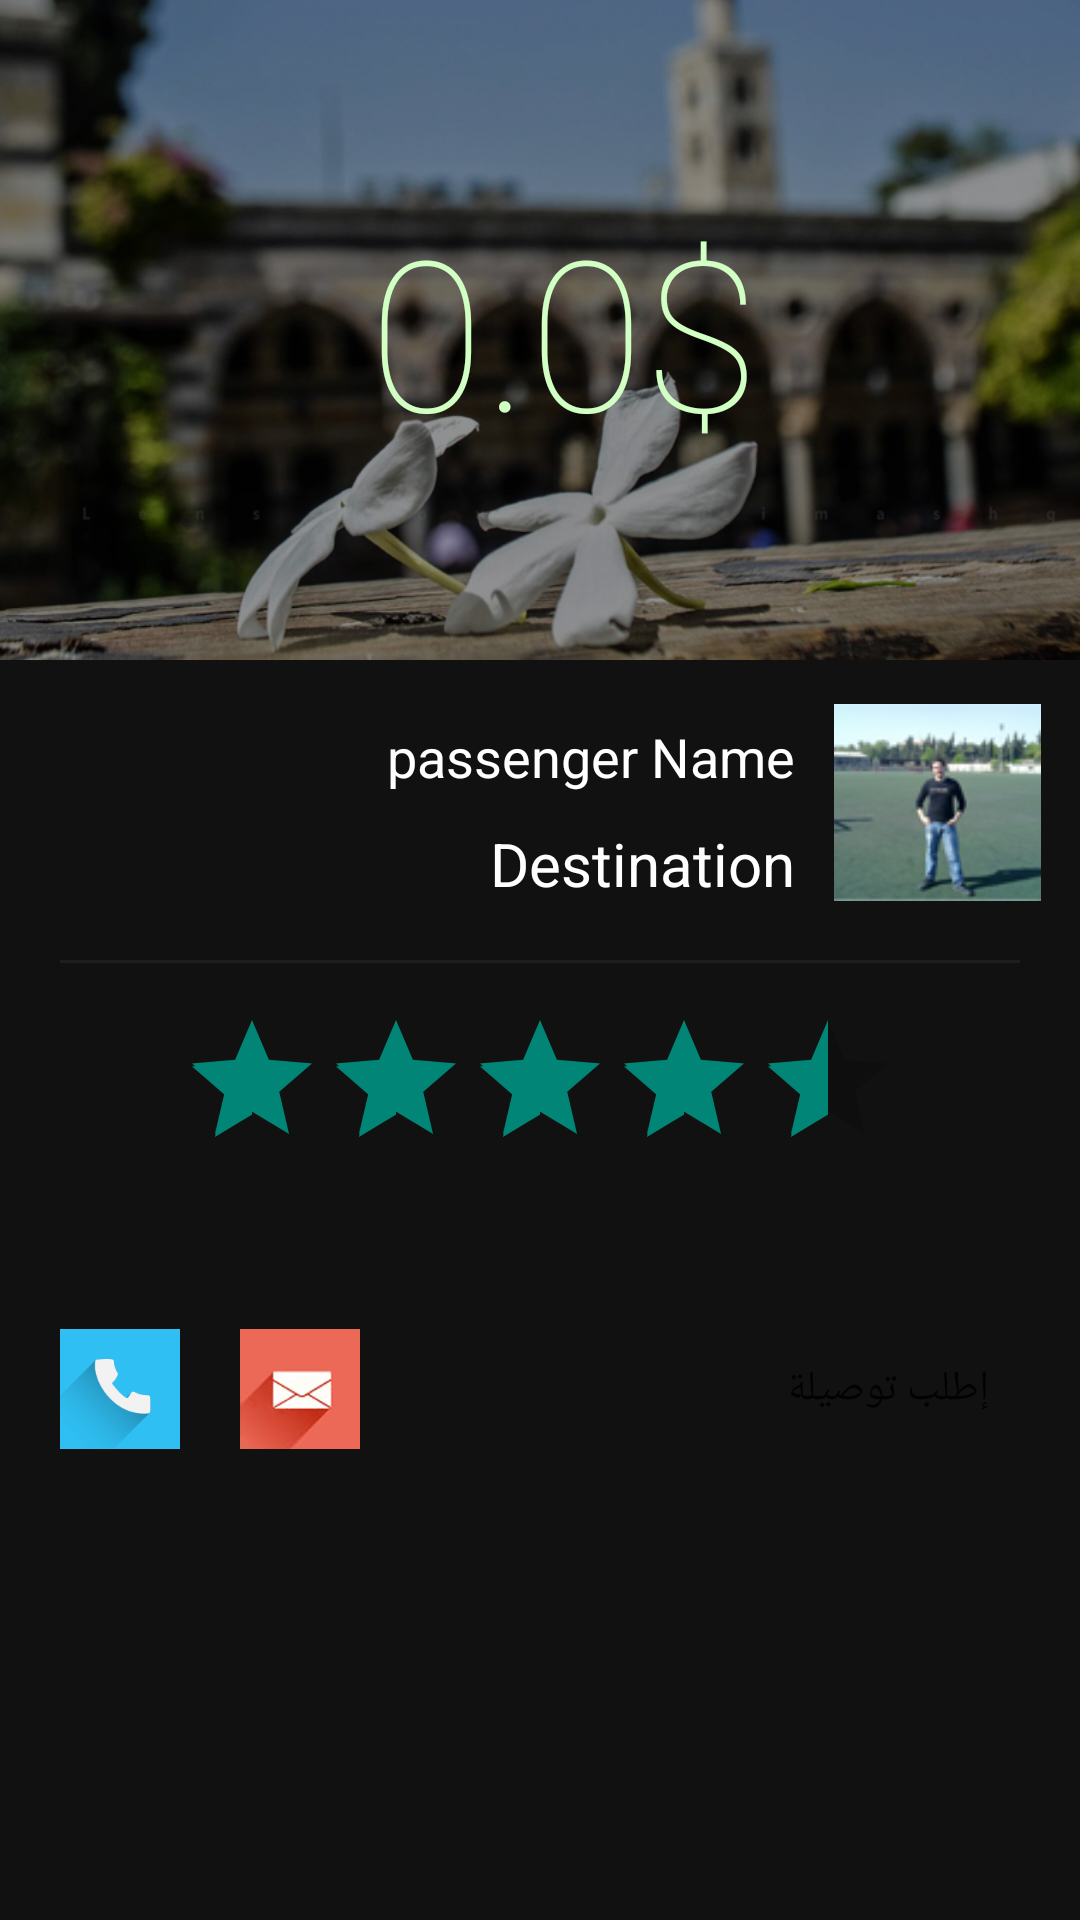

Named icons in this screenshot (1080px x 1920px) and their bounding boxes, (x1, y1, x2, y2):
phone: (60, 1329, 180, 1449)
